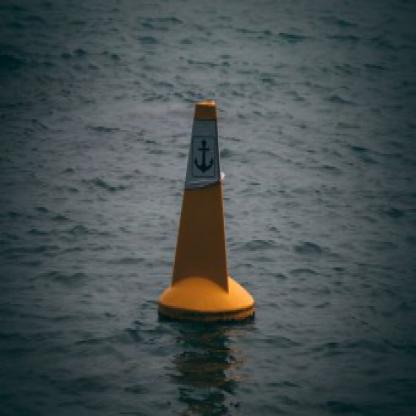buoy: (152, 90, 260, 332)
